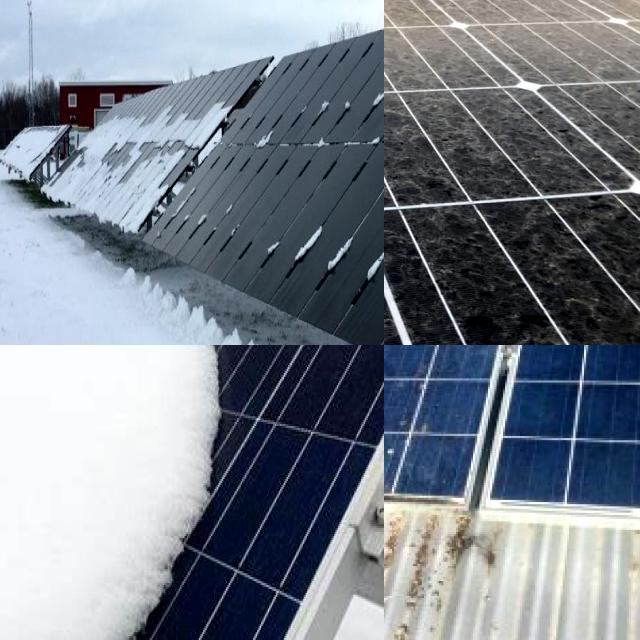bird: (384, 409, 416, 442), (384, 345, 427, 364), (467, 345, 517, 360), (384, 345, 401, 385), (384, 456, 406, 480), (384, 345, 405, 364), (384, 345, 410, 359)
dust: (384, 209, 640, 345), (386, 82, 640, 208), (384, 210, 539, 345), (384, 88, 533, 228), (384, 0, 640, 66), (384, 0, 519, 84), (384, 0, 580, 45), (384, 0, 496, 48), (384, 0, 518, 19)
panel: (136, 488, 212, 640), (204, 345, 246, 507), (154, 103, 230, 160), (56, 164, 140, 214), (102, 345, 197, 387), (326, 208, 362, 296), (291, 216, 339, 279), (0, 345, 83, 375), (92, 112, 148, 156), (358, 243, 384, 302), (11, 126, 43, 170), (359, 50, 384, 105), (337, 131, 384, 159), (141, 182, 177, 212), (0, 345, 44, 369), (254, 131, 288, 159), (320, 91, 359, 115), (310, 134, 342, 162), (260, 234, 289, 262), (0, 345, 24, 372), (222, 206, 238, 227), (196, 212, 210, 230)
